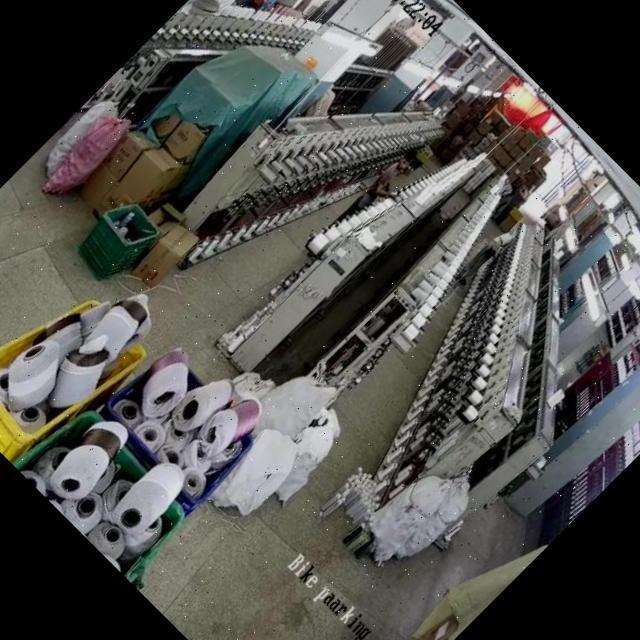person: (350, 140, 428, 218), (459, 228, 514, 282)
